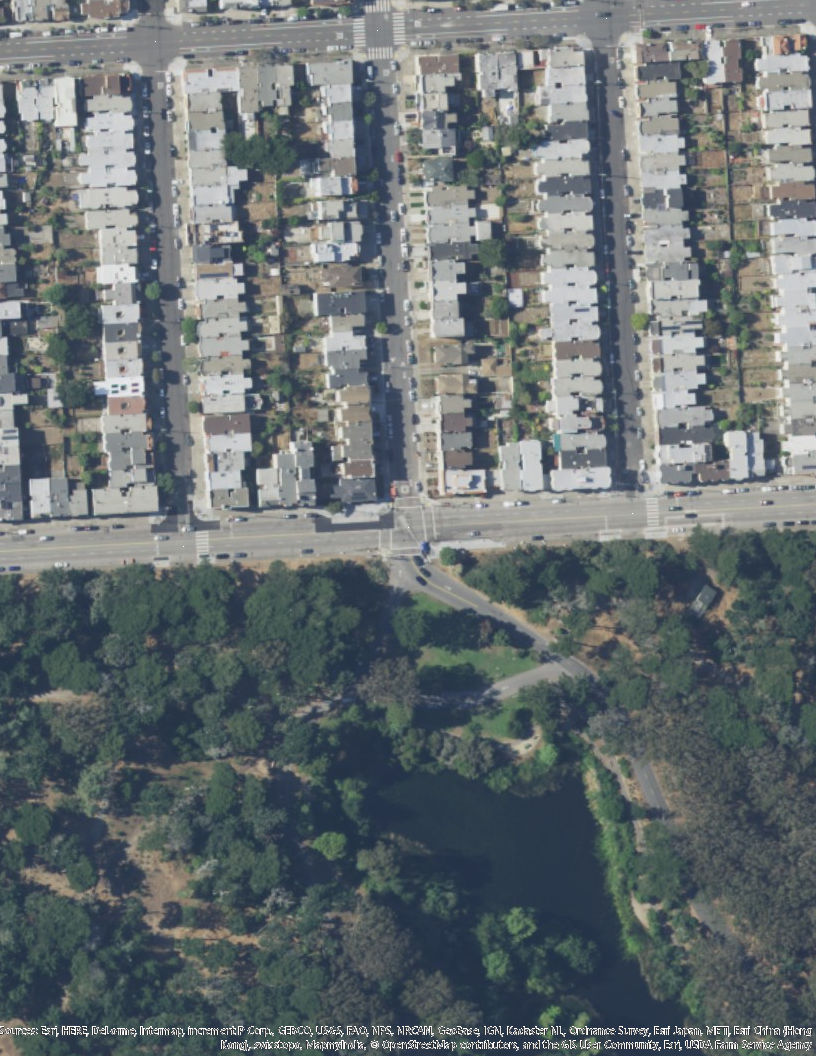zebracross: (644, 497, 660, 531), (352, 14, 367, 48), (195, 525, 211, 555), (393, 13, 407, 46), (363, 1, 392, 14), (367, 47, 394, 60)
